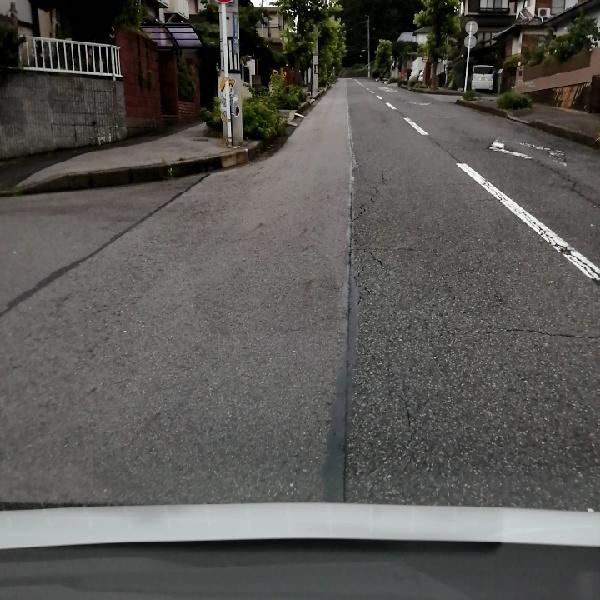D00: (342, 153, 390, 295), (557, 169, 597, 218)
D10: (477, 318, 597, 349)
D43: (486, 127, 577, 175)
D44: (395, 105, 429, 135)
